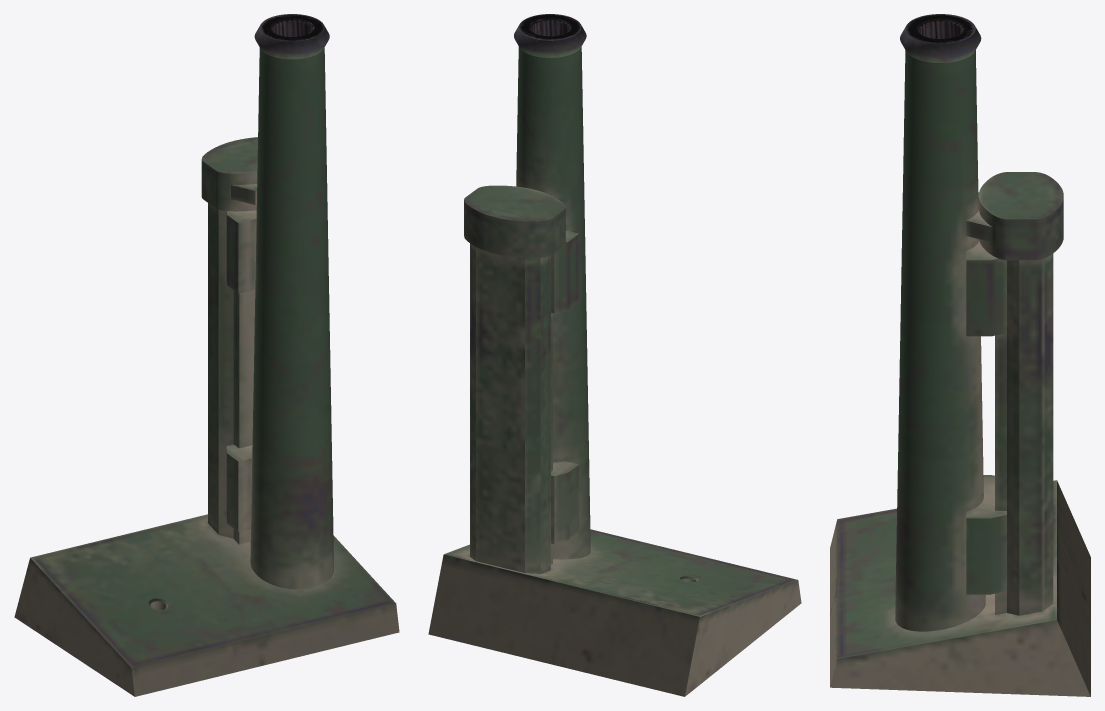
File: Gun_01.glb
The picture shows the model from 3 angles, left to right: view 1: azimuth 30°, elevation 25°; view 2: azimuth 150°, elevation 25°; view 3: azimuth 270°, elevation 25°; orthographic projection. The views are drawn at different scales.
Visible parts, largest first — view 1: set_0_group_0; view 2: set_0_group_0; view 3: set_0_group_0.
Boxes of the visible parts, box(x1,y1,x2,y2) form: set_0_group_0: box(14, 14, 399, 696); set_0_group_0: box(428, 14, 801, 696); set_0_group_0: box(830, 14, 1090, 696).
Size of the model in its own units: 0.3488 by 0.7426 by 0.275.
Materials: 1 (1 with a texture image).
